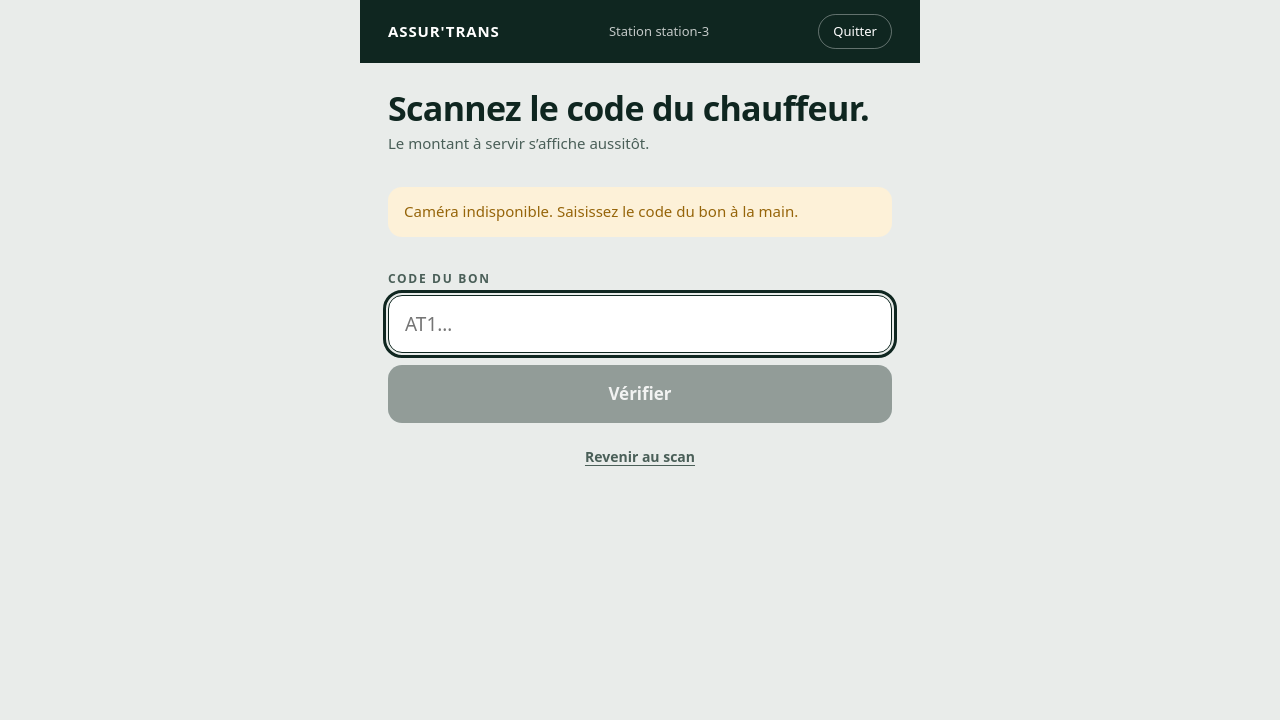
Test case: bon valable › affiche SERVIR et le montant, en pleine page
In the field with placeholder "AT1…": (640, 324) [388,295,892,353], type "AT1.charge.signature"
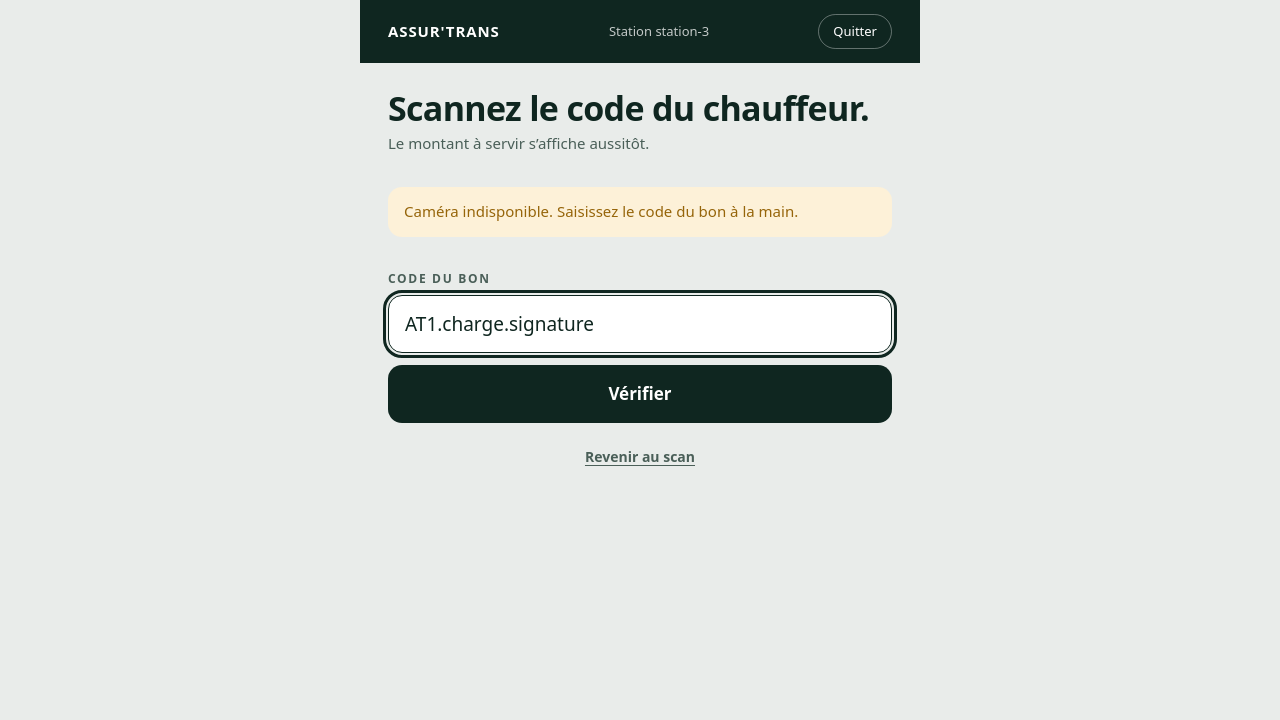
Click the button "Vérifier": (640, 394) [388,365,892,423]
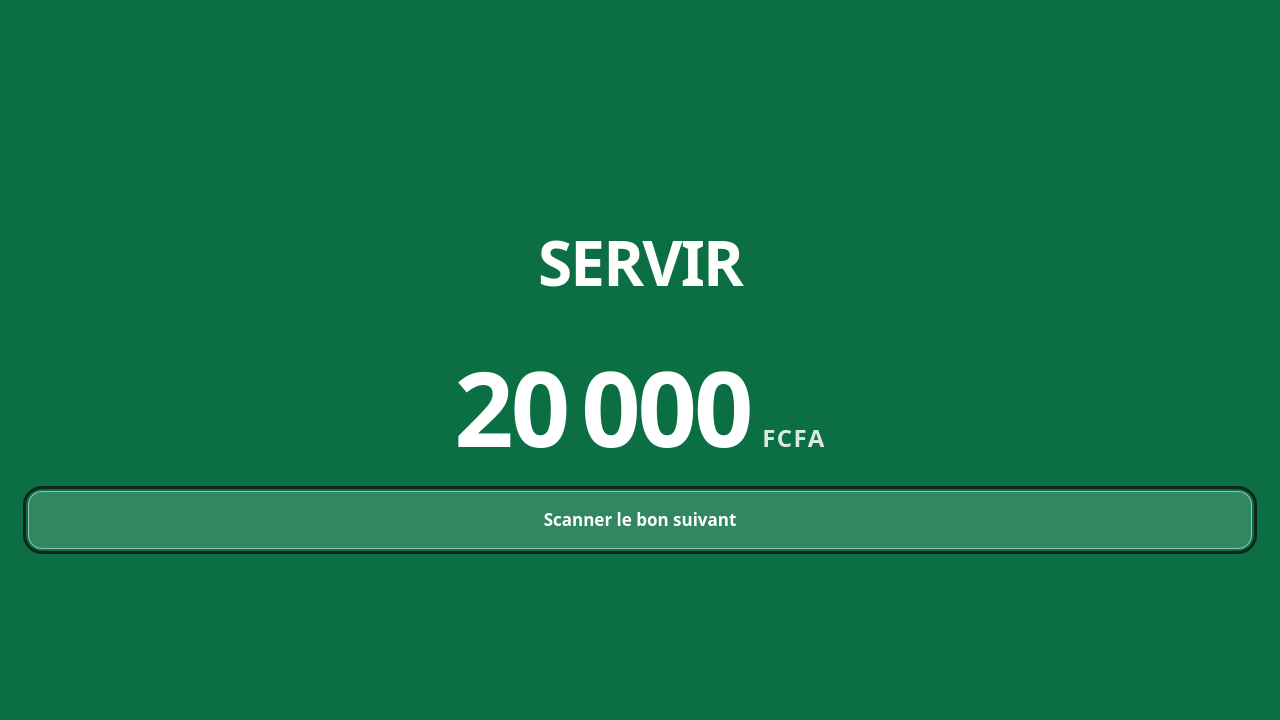
Expected: the text with class "mot" reads "Servir", [538,220,742,304]
Expected: the message reads "Servir 20 000 FCFA Scanner le bon suivant", [454,336,750,477]
Expected: the message shows "FCFA", [762,421,826,454]
